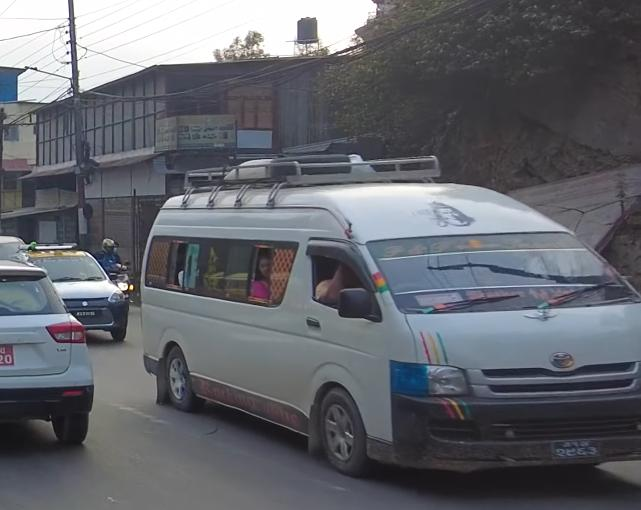car: (0, 263, 98, 454)
micro_bus: (132, 155, 641, 478)
taxi: (16, 242, 132, 347)
